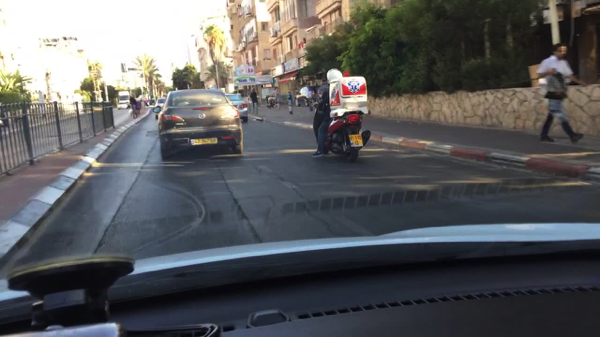car: (157, 89, 244, 160), (224, 94, 249, 124), (294, 85, 320, 107), (154, 97, 168, 120), (117, 90, 132, 104), (117, 103, 128, 110)
motor: (313, 83, 371, 162), (264, 94, 274, 110)
person: (533, 42, 585, 145), (129, 93, 138, 119), (250, 86, 259, 108), (273, 86, 280, 109), (135, 98, 142, 115), (144, 97, 150, 107)
rider: (311, 69, 345, 163)
